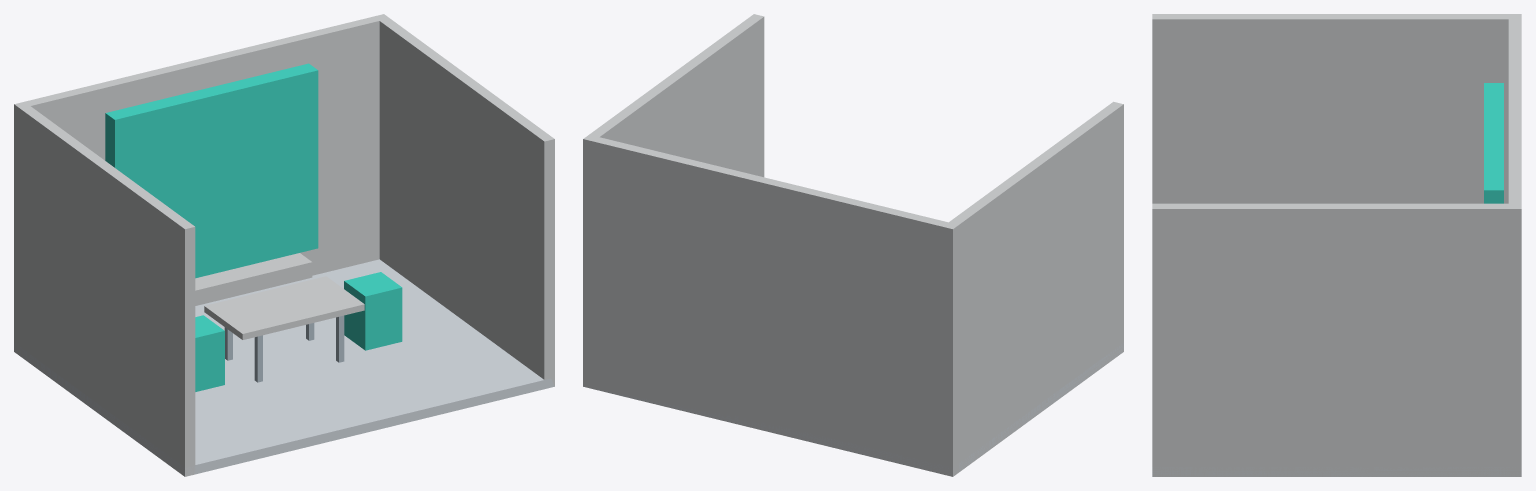
3 views of the same model, side by side, from view 1: azimuth 30°, elevation 25°; view 2: azimuth 150°, elevation 25°; view 3: azimuth 270°, elevation 25° (orthographic). The views are drawn at different scales.
Parts seen in each view (by area): view 1: Exhibition Booth Concept; view 2: Exhibition Booth Concept; view 3: Exhibition Booth Concept.
Boxes of the visible parts, box(x1,y1,x2,y2) form: Exhibition Booth Concept: box(14, 14, 554, 476); Exhibition Booth Concept: box(583, 14, 1123, 476); Exhibition Booth Concept: box(1152, 14, 1521, 476).
Bounding box in the file's own units: 5 × 3.2 × 4.
